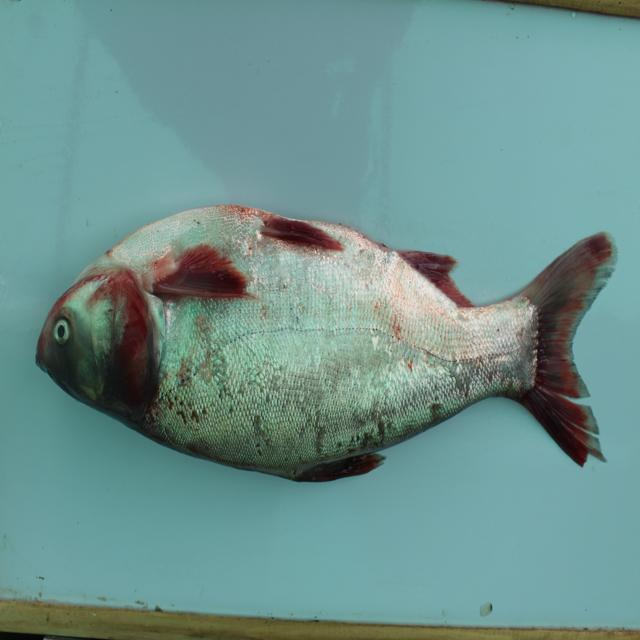SilverCarp: (36, 190, 613, 496)
